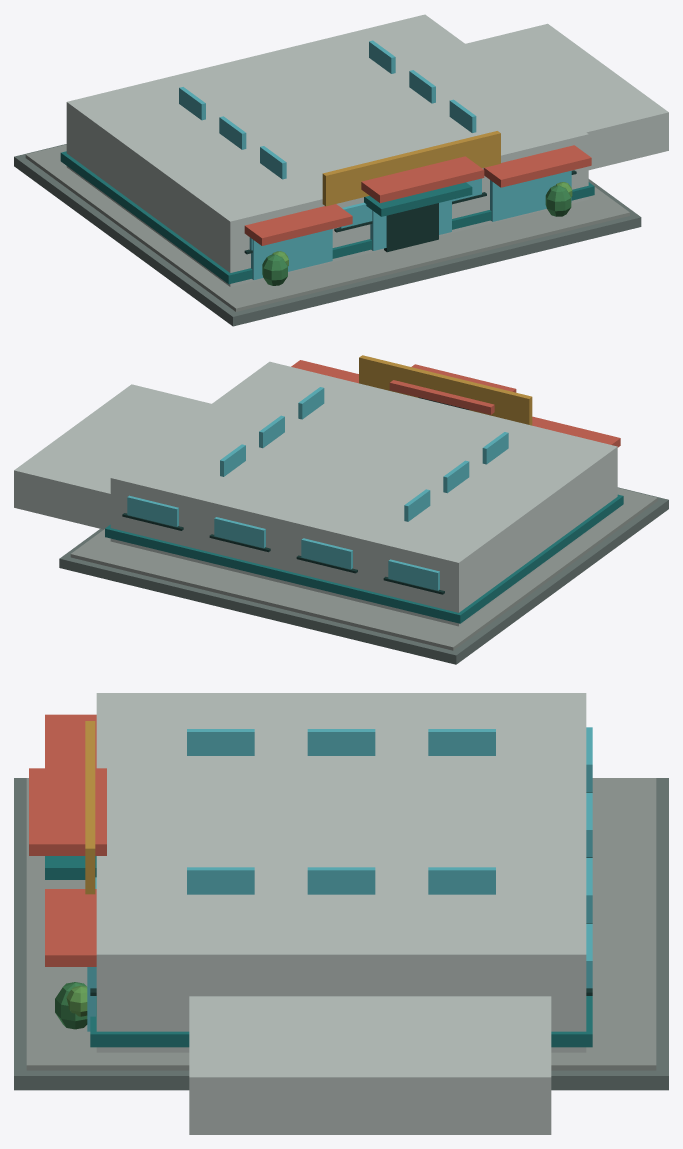
File: supermarket_lv2.glb
3 views of the same model, one above another, from view 1: azimuth 30°, elevation 25°; view 2: azimuth 150°, elevation 25°; view 3: azimuth 270°, elevation 25° (orthographic). The views are drawn at different scales.
Visible parts, largest first — view 1: rough, glossy; view 2: rough, glossy; view 3: rough, glossy.
Boxes of the visible parts, x1,y1,x2,y2 form: rough: (14, 14, 668, 326); glossy: (179, 40, 571, 279); rough: (14, 355, 668, 664); glossy: (127, 387, 508, 590); rough: (14, 693, 668, 1134); glossy: (87, 727, 592, 1031).
Size of the model in its own units: 11.87 by 2.4 by 9.1.
